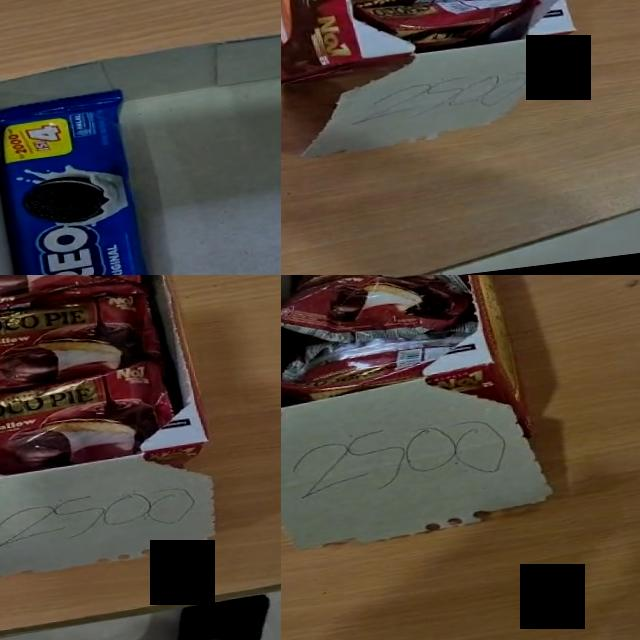Chocopie: (0, 357, 180, 480), (0, 287, 169, 404), (281, 275, 470, 342), (281, 275, 469, 337), (281, 338, 462, 401), (353, 0, 543, 58), (0, 275, 146, 328), (340, 0, 470, 15)
Oreo: (0, 85, 182, 275)
